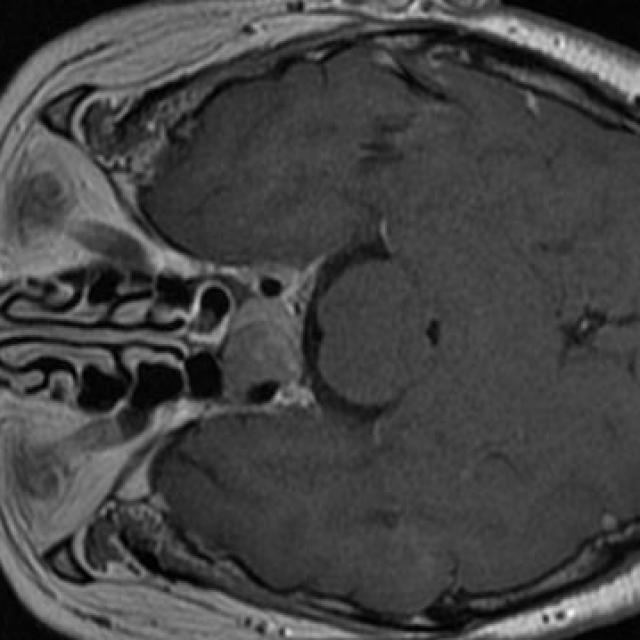pituitary: (217, 298, 303, 398)
